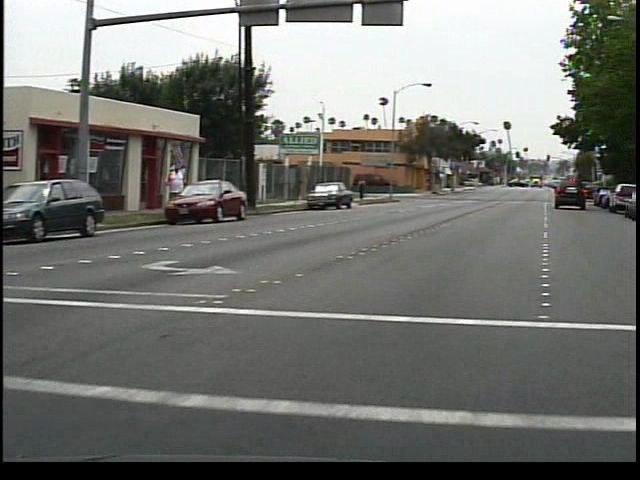person: (168, 158, 196, 219), (361, 174, 375, 202)
